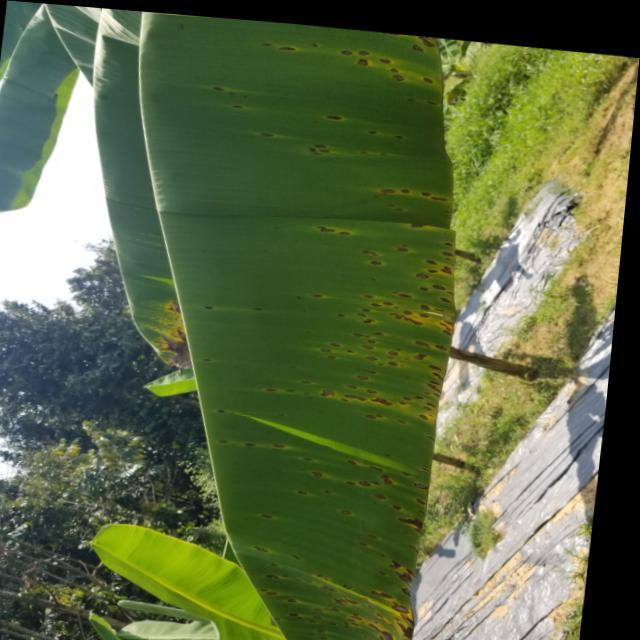Early_rust: (115, 0, 473, 640)
